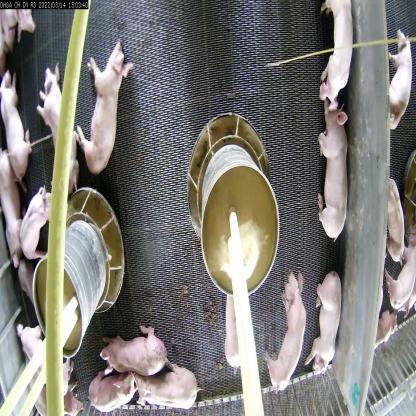Pig: (80, 44, 133, 168), (33, 63, 76, 192), (309, 0, 353, 115), (258, 272, 300, 388), (315, 99, 349, 238), (103, 326, 173, 385), (3, 67, 33, 174), (16, 177, 51, 263), (312, 278, 346, 366), (21, 332, 73, 387), (130, 373, 193, 415), (89, 376, 140, 415), (0, 166, 19, 254)
